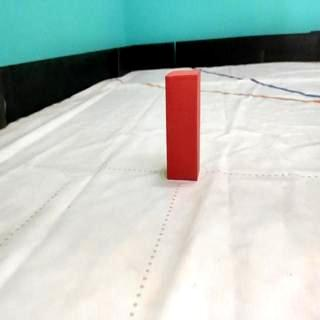redbox: (164, 70, 201, 180)
